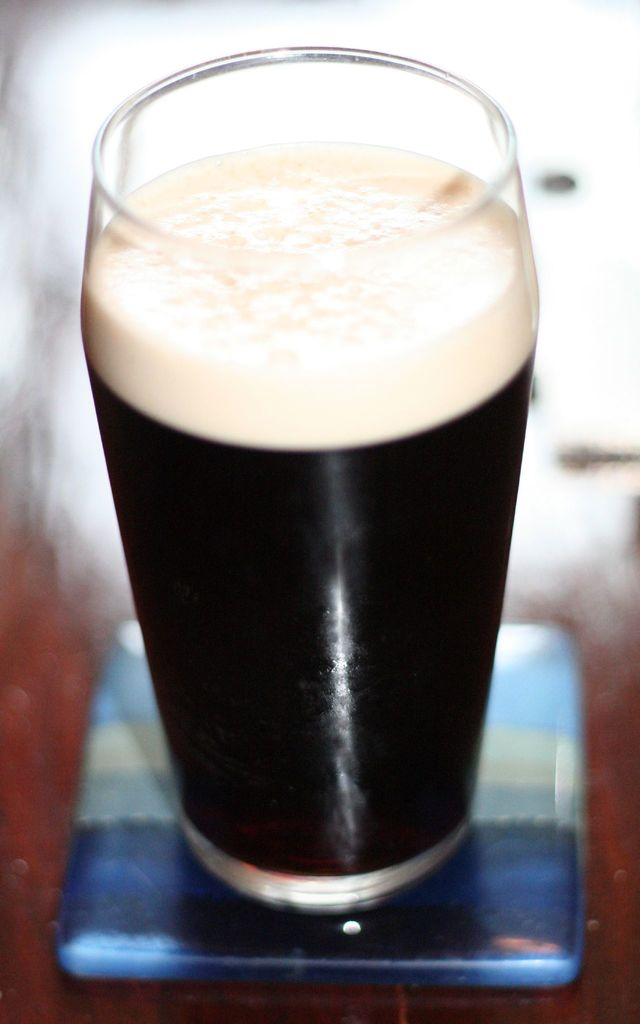Beer: (79, 46, 540, 914)
